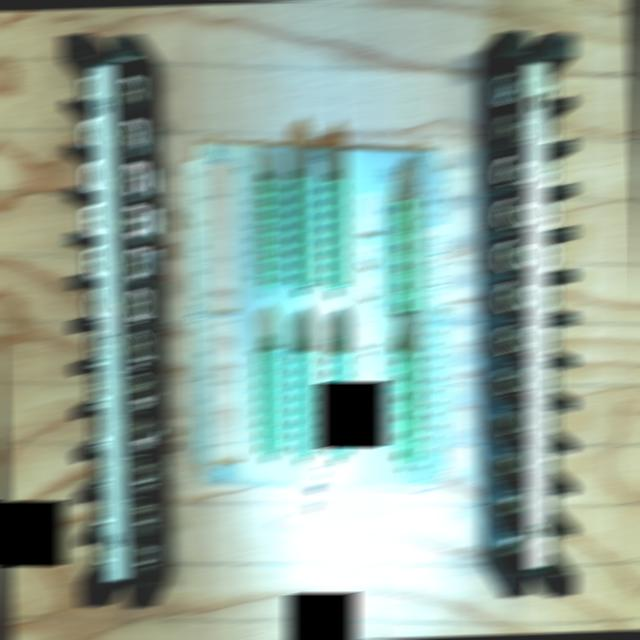Flathead_Block: (498, 33, 578, 593)
Phillips_Block: (59, 33, 159, 609)
Terminal_1: (391, 199, 423, 311), (393, 352, 422, 462)
Terminal_2: (319, 180, 351, 286), (286, 178, 317, 284), (288, 351, 319, 456), (323, 352, 353, 458), (254, 349, 284, 454)
